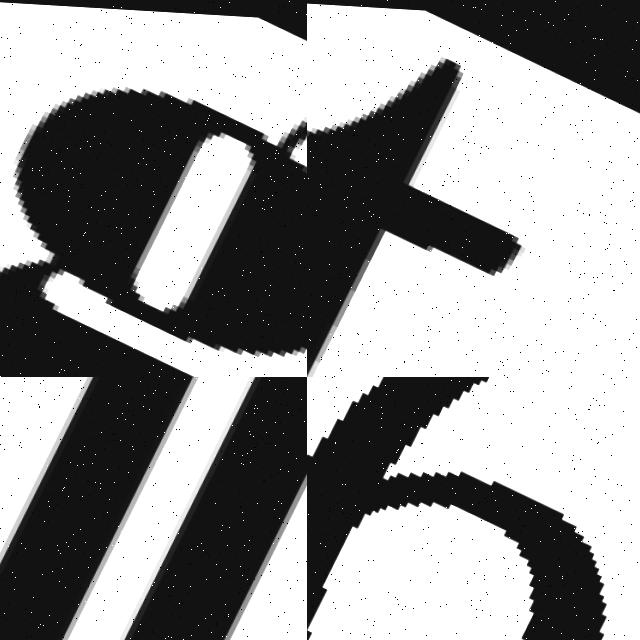6: (307, 377, 640, 640)
G: (0, 0, 307, 377)
T: (307, 0, 610, 377)
U: (0, 377, 307, 640)
